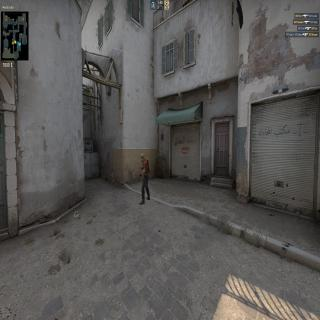T-Head: (140, 153, 145, 163)
